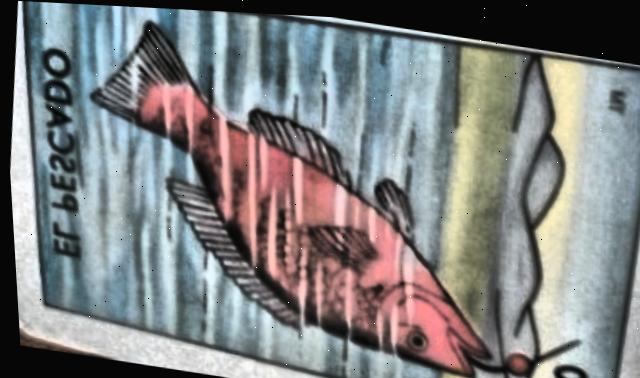El Pescado: (25, 1, 640, 378)
